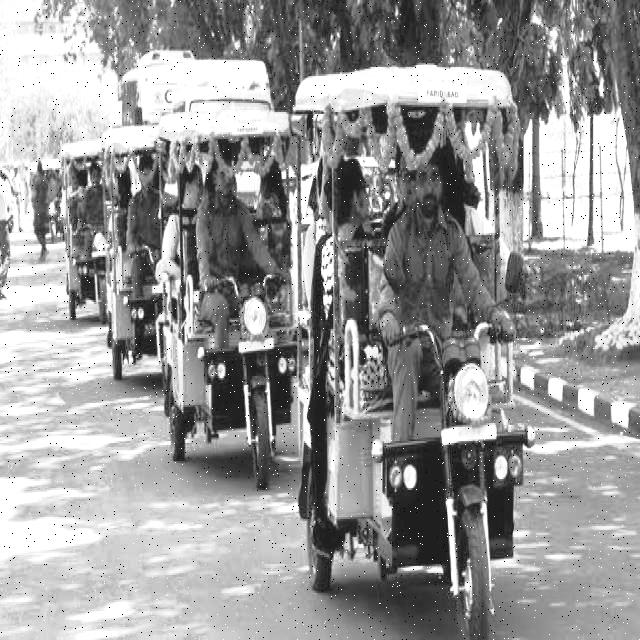Toto: (291, 64, 528, 640), (153, 110, 301, 476), (103, 131, 166, 379), (54, 135, 110, 305)
